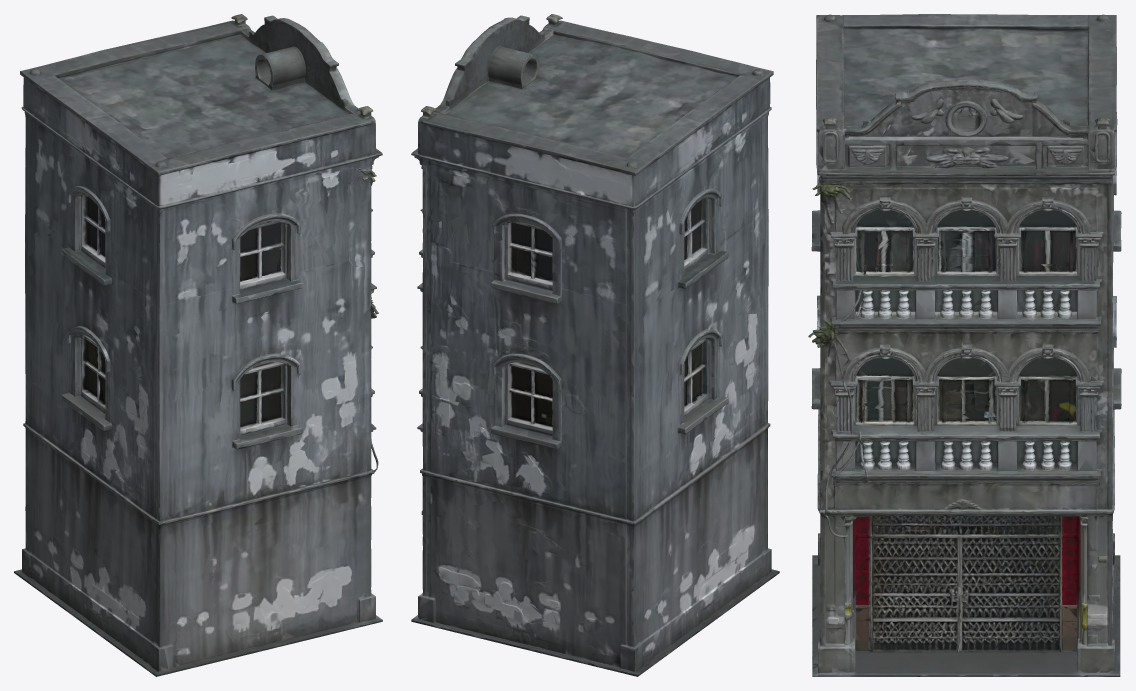
The picture shows the model from 3 angles, left to right: view 1: azimuth 30°, elevation 25°; view 2: azimuth 150°, elevation 25°; view 3: azimuth 270°, elevation 25°; orthographic projection. The views are drawn at different scales.
Visible parts, largest first — view 1: tripo_node_ce89a3ca; view 2: tripo_node_ce89a3ca; view 3: tripo_node_ce89a3ca.
Boxes of the visible parts, x1=… form: tripo_node_ce89a3ca: x1=14, y1=14, x2=382, y2=676; tripo_node_ce89a3ca: x1=411, y1=14, x2=779, y2=676; tripo_node_ce89a3ca: x1=808, y1=14, x2=1121, y2=676.
Bounding box in the file's own units: 0.4351 × 0.9789 × 0.4711.
Materials: 1 (1 with a texture image).
